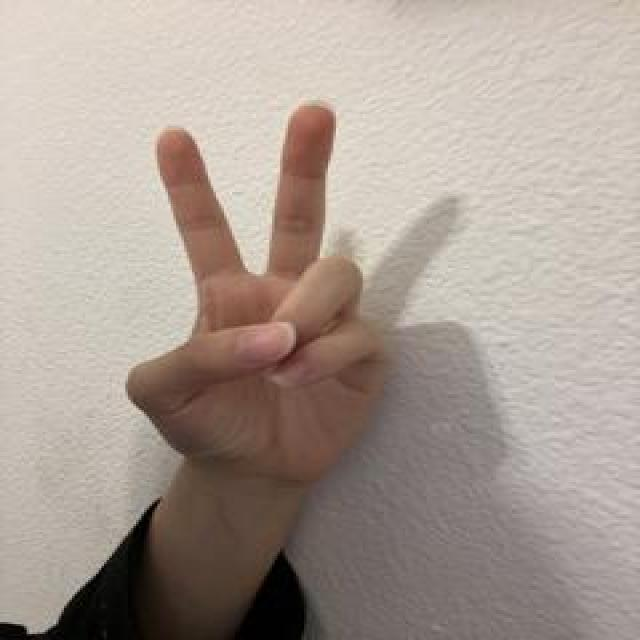V: (119, 96, 398, 490)
